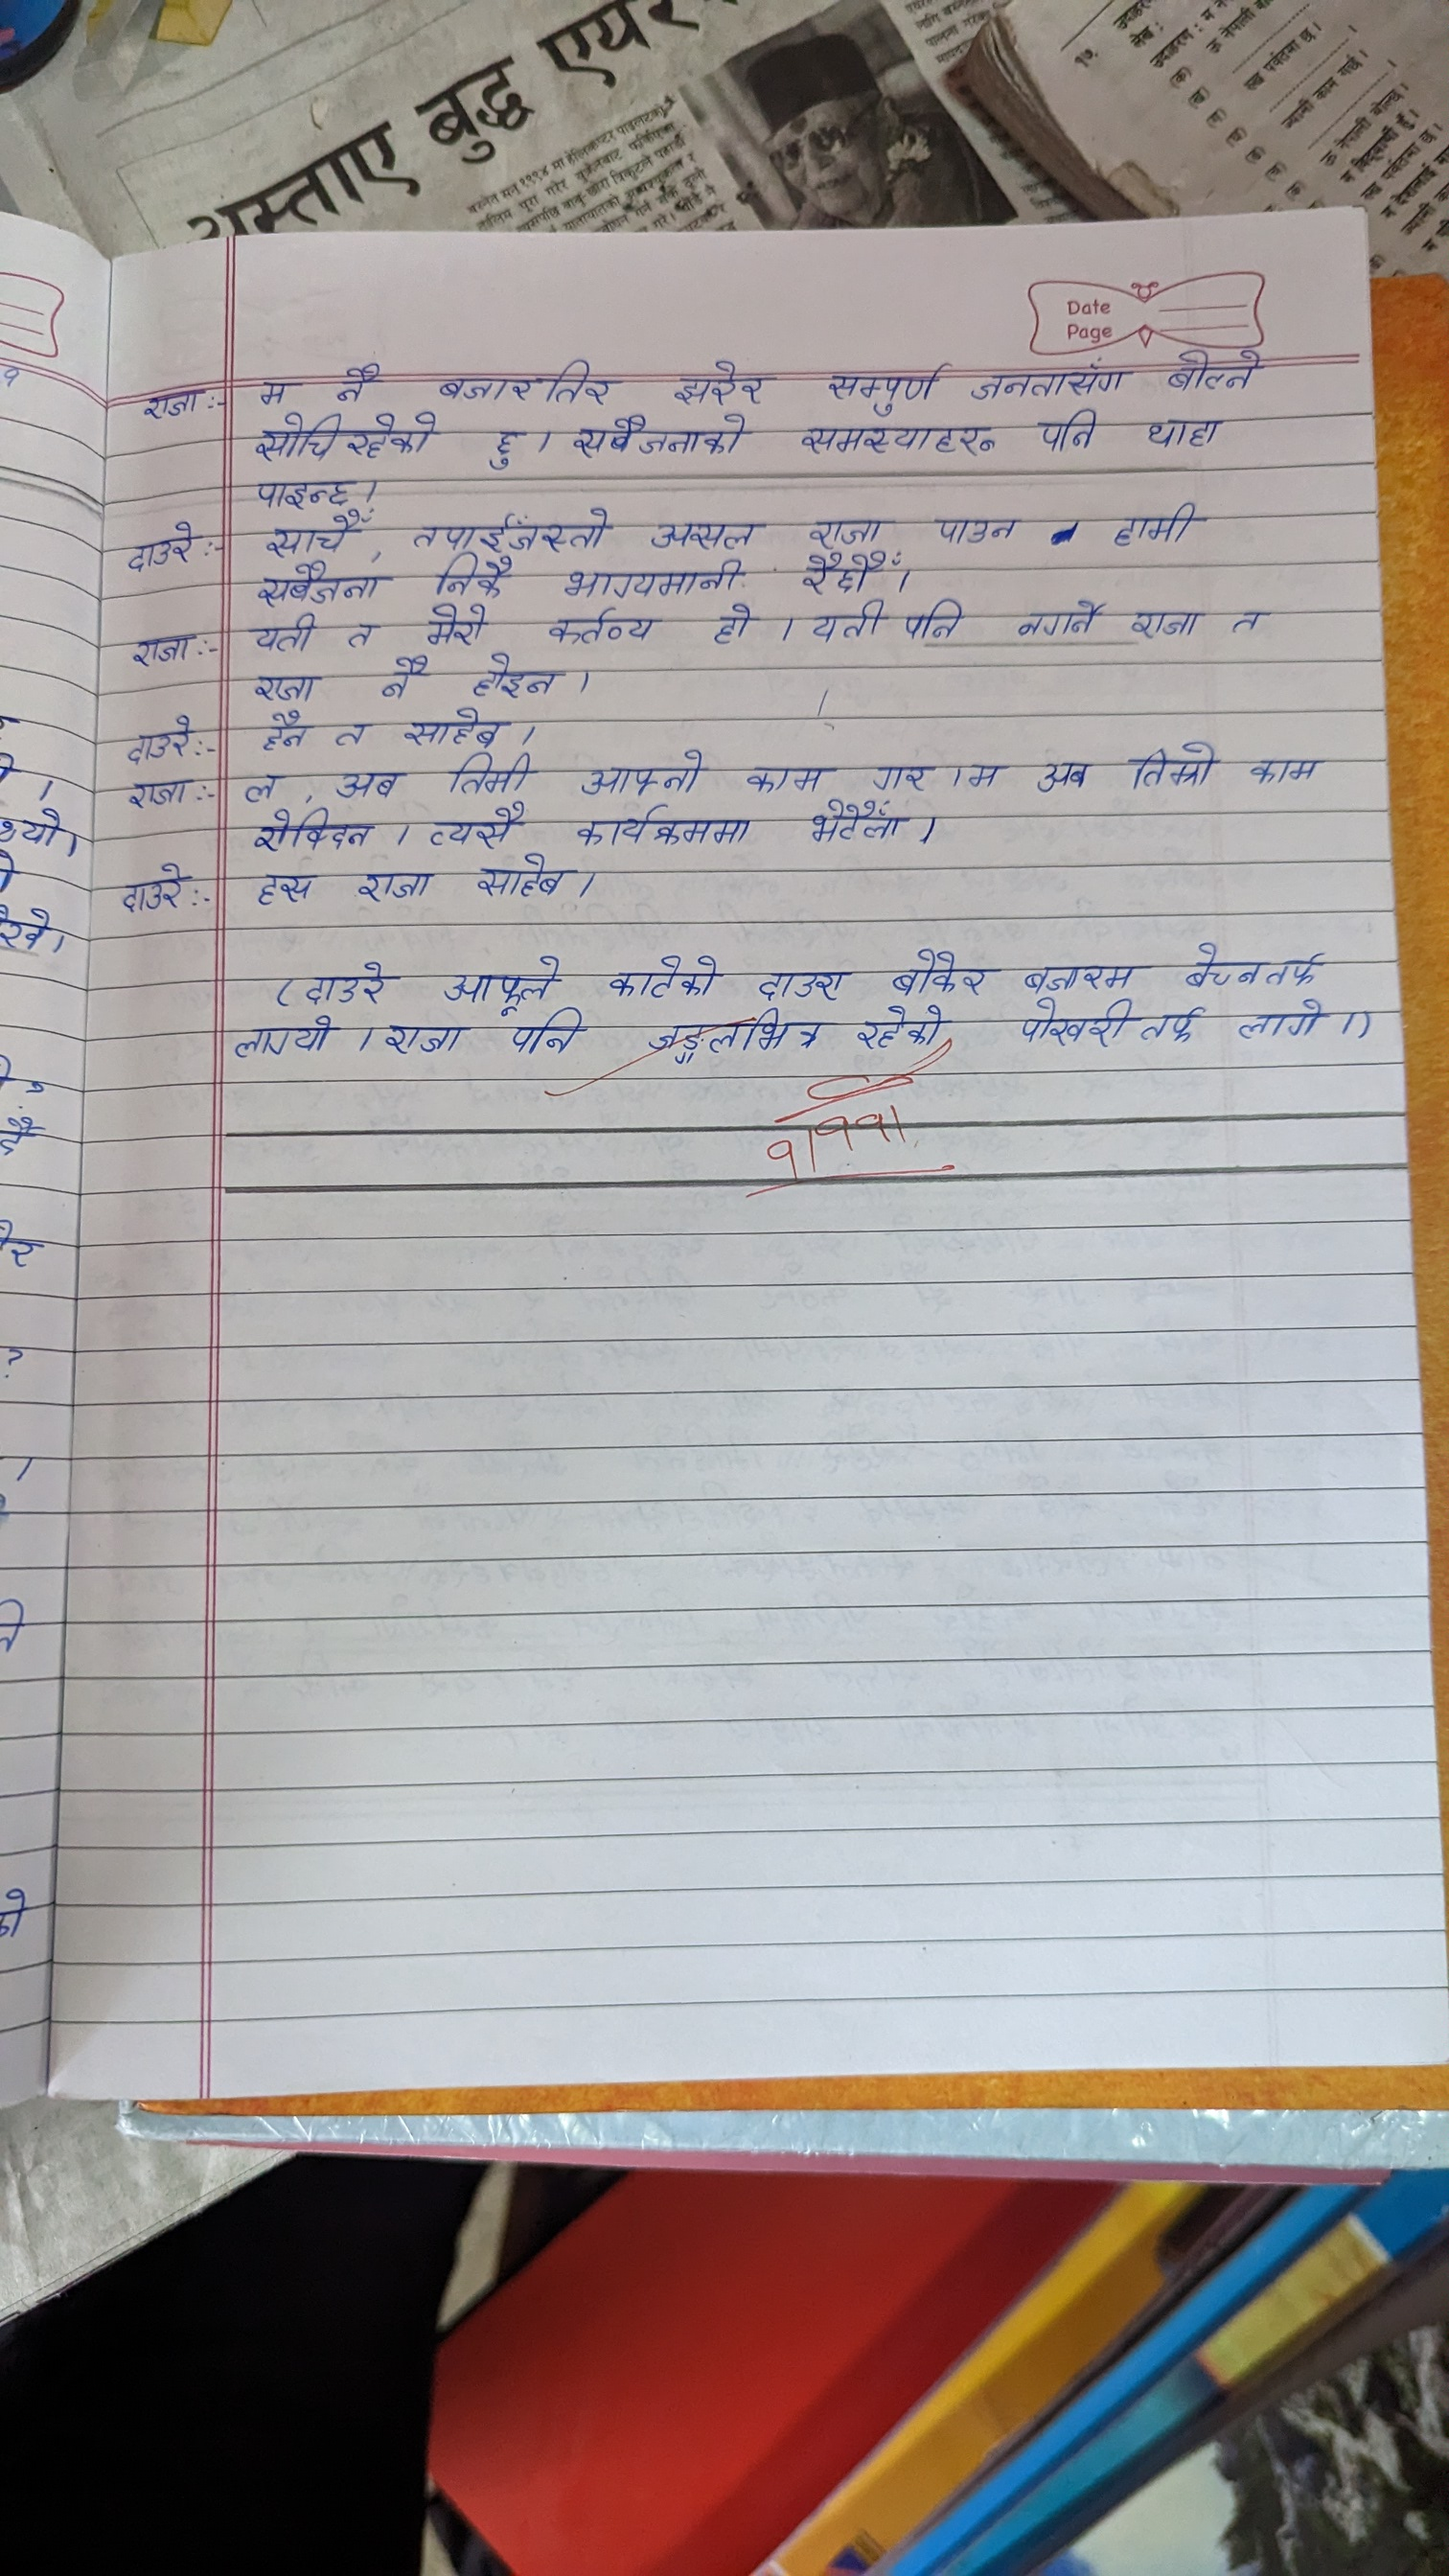text: (646, 1008, 824, 1069), (796, 419, 1008, 467), (251, 410, 439, 464), (1178, 938, 1336, 991), (571, 801, 752, 847), (430, 357, 609, 403), (410, 508, 612, 548), (571, 414, 752, 458), (561, 557, 740, 596), (580, 743, 706, 798), (439, 955, 568, 1008), (971, 359, 1129, 402), (824, 359, 948, 412), (603, 947, 722, 1000), (1118, 734, 1221, 793), (1016, 1001, 1136, 1051), (234, 1016, 347, 1067), (251, 563, 387, 605), (253, 809, 375, 855), (798, 550, 916, 596), (883, 947, 989, 996), (1108, 501, 1217, 548), (292, 955, 396, 1005), (472, 856, 573, 906), (1166, 350, 1269, 398), (858, 1003, 961, 1051), (672, 356, 770, 405), (1235, 996, 1332, 1046), (428, 800, 524, 849), (119, 518, 211, 570), (260, 513, 366, 557), (809, 798, 908, 844), (752, 959, 849, 1005), (646, 513, 766, 550), (1019, 955, 1138, 993), (541, 607, 663, 642), (465, 653, 561, 697), (922, 511, 1035, 548), (124, 711, 198, 766), (119, 865, 195, 918), (405, 708, 504, 748), (1141, 1000, 1217, 1051), (502, 1014, 589, 1058), (433, 554, 517, 600), (1244, 754, 1332, 796), (809, 600, 886, 648), (446, 754, 538, 793), (416, 602, 490, 649), (386, 1017, 469, 1060), (1014, 600, 1100, 640), (1037, 409, 1102, 462), (246, 476, 368, 504), (1129, 600, 1205, 644), (249, 610, 320, 655), (902, 600, 968, 648), (352, 865, 435, 902), (740, 757, 824, 791), (126, 628, 198, 667), (1035, 755, 1097, 800), (333, 350, 380, 407), (124, 777, 198, 812), (257, 872, 318, 915), (479, 419, 527, 474), (1141, 418, 1228, 448), (807, 515, 890, 545), (145, 382, 200, 426), (382, 655, 433, 699), (334, 766, 402, 800), (713, 603, 761, 649), (258, 711, 308, 755), (870, 757, 932, 791), (251, 672, 315, 704), (1224, 602, 1270, 639), (959, 755, 1005, 791), (237, 770, 285, 803), (329, 717, 372, 750), (251, 372, 290, 407), (343, 614, 382, 649)
